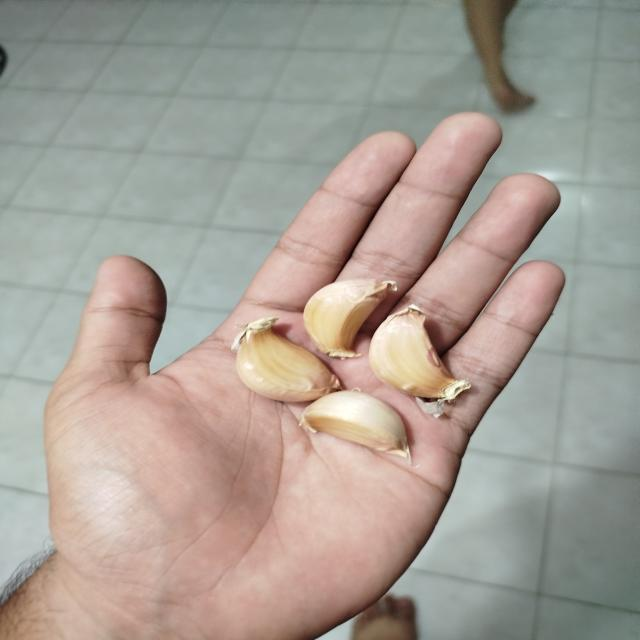garlic: (368, 304, 472, 416), (231, 316, 343, 403), (297, 387, 412, 465), (302, 278, 398, 360)
